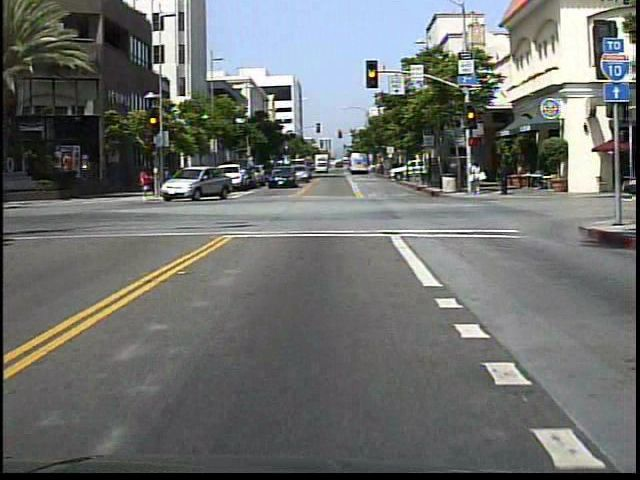person: (466, 158, 487, 198), (496, 157, 512, 198), (139, 166, 155, 196)
